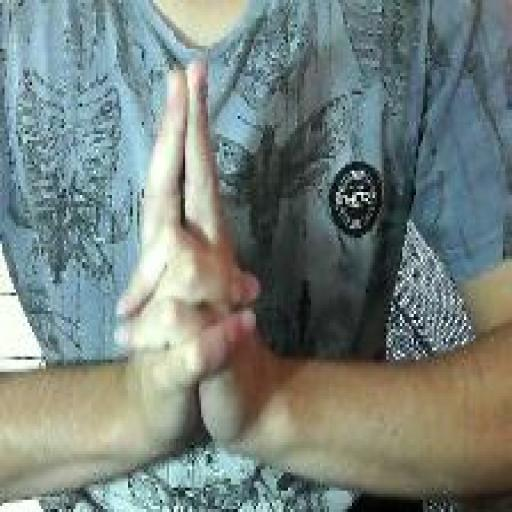Tora -tiger-: (108, 56, 268, 465)
